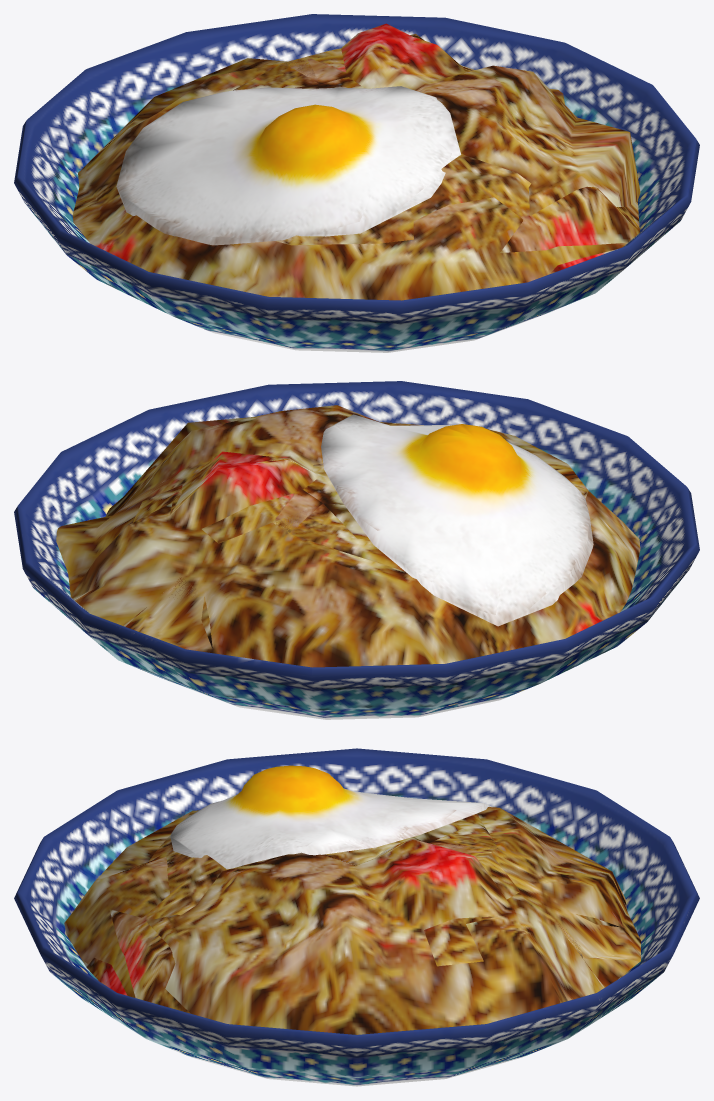
The model's file is Yakisoba.glb.
The picture shows the model from 3 angles, top to bottom: view 1: azimuth 30°, elevation 25°; view 2: azimuth 150°, elevation 25°; view 3: azimuth 270°, elevation 25°; orthographic projection.
Parts seen in each view (by area): view 1: Circle, Sphere.001-noimp; view 2: Circle, Sphere.001-noimp; view 3: Circle, Sphere.001-noimp.
Part boxes in pixels (x1=…): Circle: x1=14, y1=14, x2=699, y2=352; Sphere.001-noimp: x1=233, y1=48, x2=640, y2=274; Circle: x1=14, y1=381, x2=699, y2=719; Sphere.001-noimp: x1=123, y1=422, x2=588, y2=648; Circle: x1=14, y1=748, x2=699, y2=1086; Sphere.001-noimp: x1=81, y1=810, x2=625, y2=1013.
Bounding box in the file's own units: 0.7342 × 0.2145 × 0.7342.
Materials: 3 (3 with a texture image).
